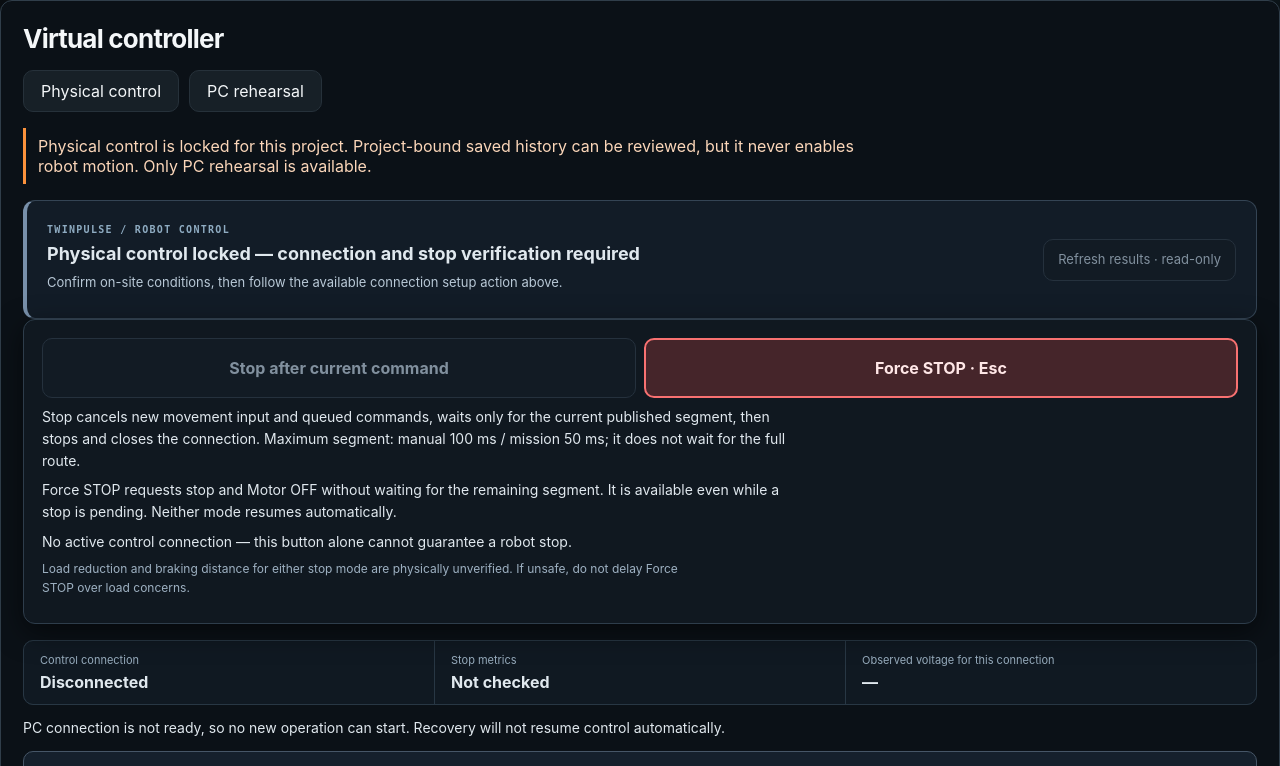
Scenario: manual console › locks named-project physical controls while leaving PC rehearsal available
Expected: the text "Project-bound saved history can be reviewed" is shown, top-left (38, 136), bottom-right (854, 176)
Click the button "PC rehearsal" at (256, 91), box top-left (189, 70), bottom-right (322, 112)
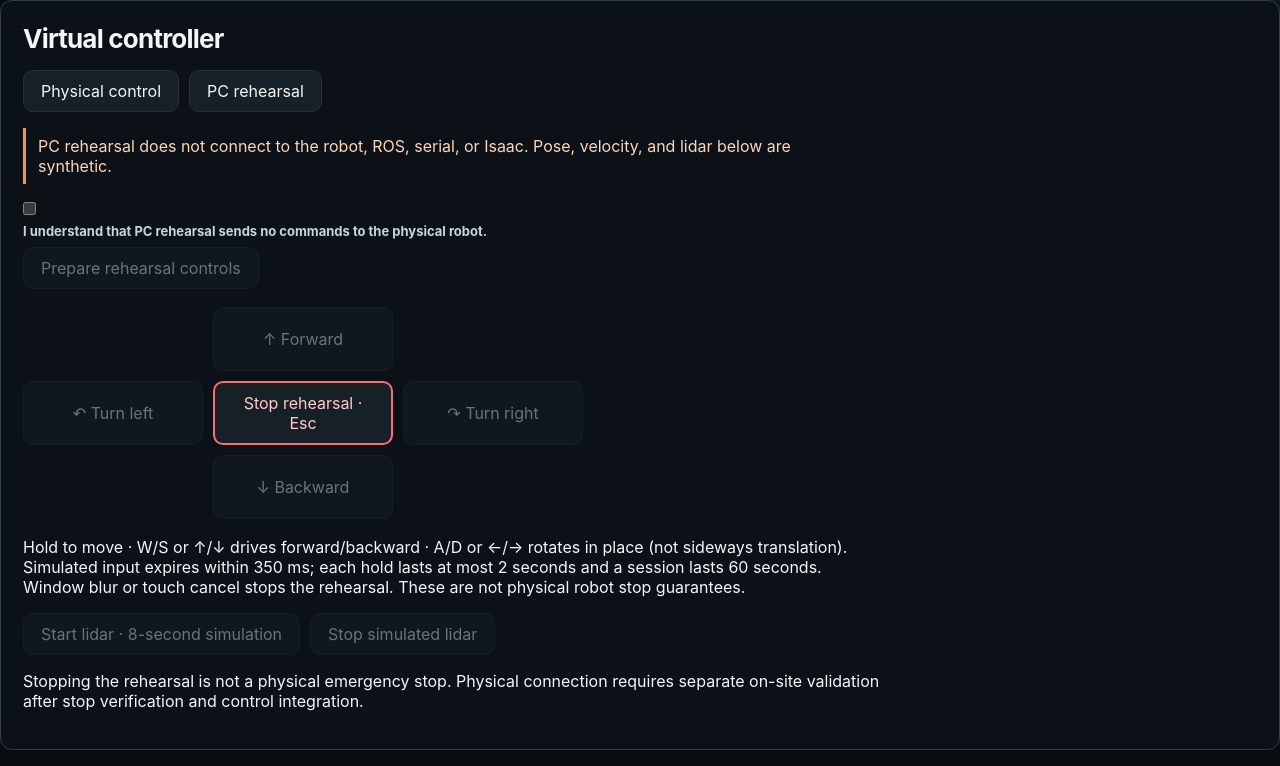
Expected: the button "Prepare rehearsal controls" is disabled, top-left (23, 247), bottom-right (259, 289)
